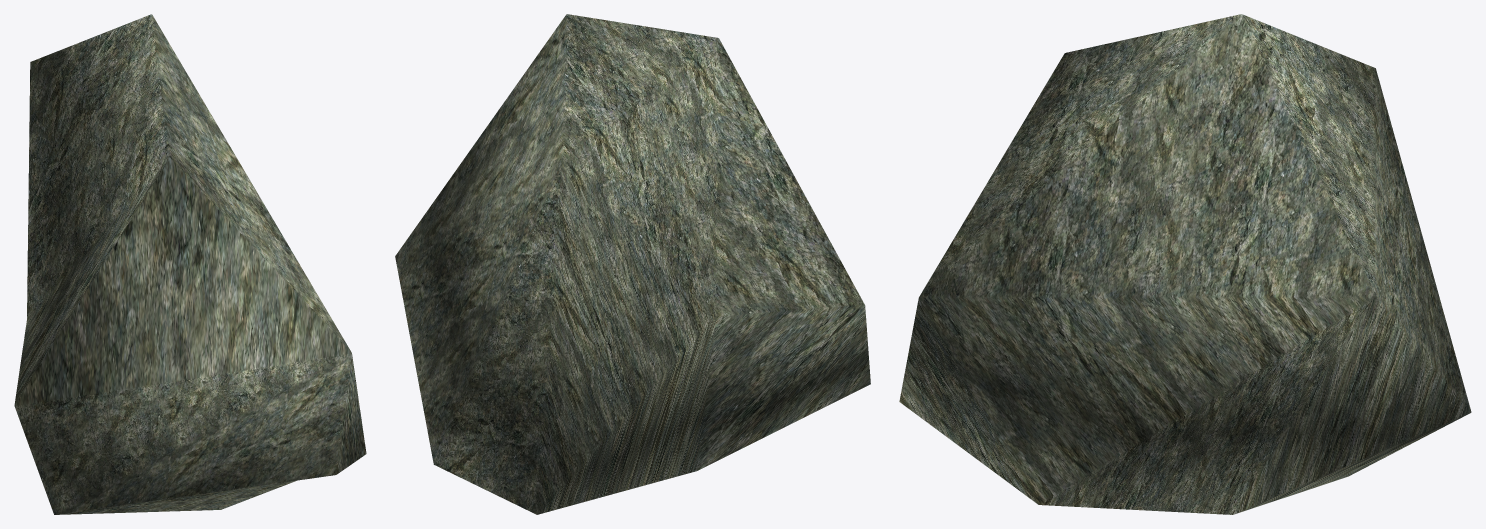
File: mtns_rock_grey_a3_l3.fbx
3 views of the same model, side by side, from view 1: azimuth 30°, elevation 25°; view 2: azimuth 150°, elevation 25°; view 3: azimuth 270°, elevation 25° (orthographic). The views are drawn at different scales.
Visible parts, largest first — view 1: mesh_node; view 2: mesh_node; view 3: mesh_node.
Boxes of the visible parts, left/top/right/bottom form: mesh_node: left=14, top=14, right=366, bottom=514; mesh_node: left=395, top=14, right=870, bottom=514; mesh_node: left=899, top=14, right=1471, bottom=514.
Size of the model in its own units: 2.34 by 2.97 by 3.25.
1 material, 1 textured.
